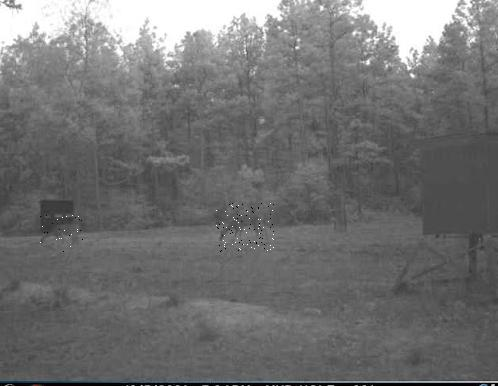Deer: (216, 203, 274, 252), (37, 215, 83, 253)
